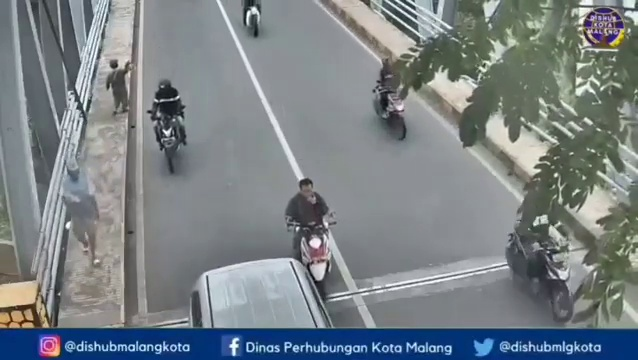motorbike: (511, 183, 577, 327), (286, 178, 338, 298), (145, 78, 189, 176), (371, 57, 411, 142)
